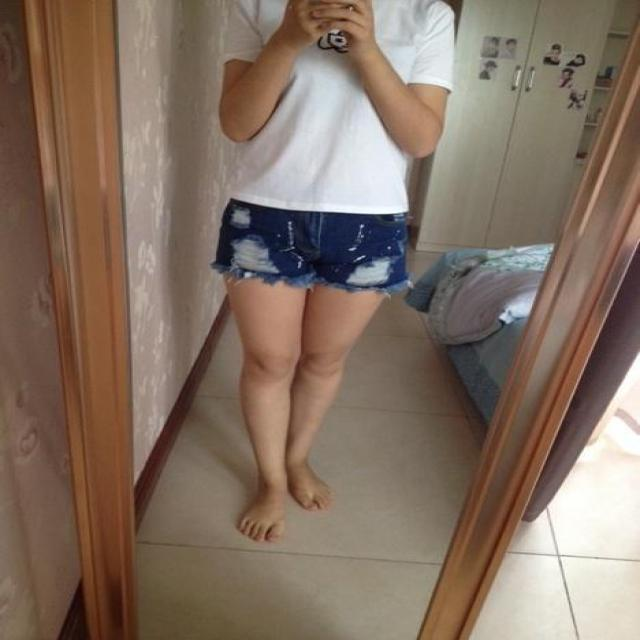short sleeve top: (219, 1, 453, 212)
shorts: (212, 195, 406, 284)
